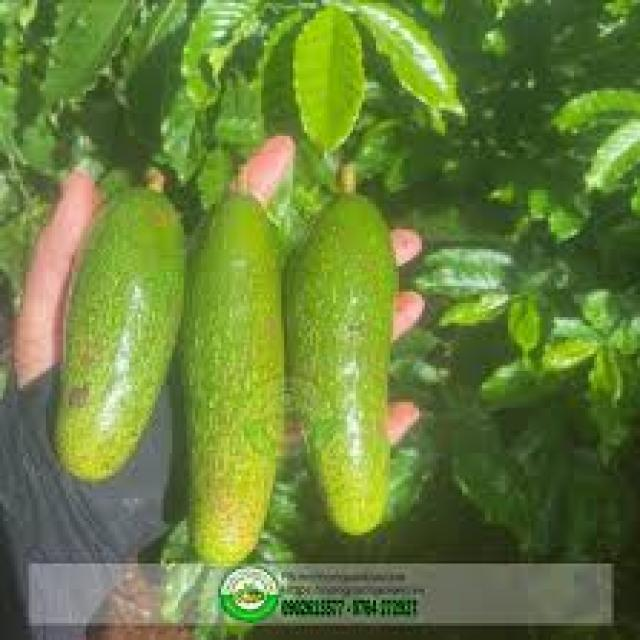Bo: (54, 184, 185, 491), (294, 160, 400, 535), (195, 189, 274, 564)
